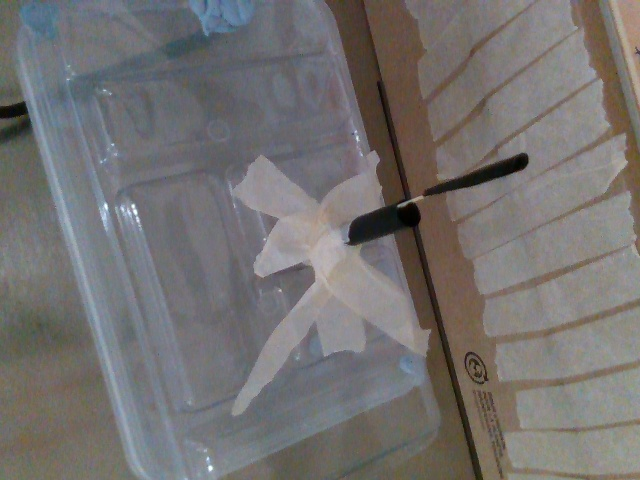test_strip: (393, 152, 528, 208)
